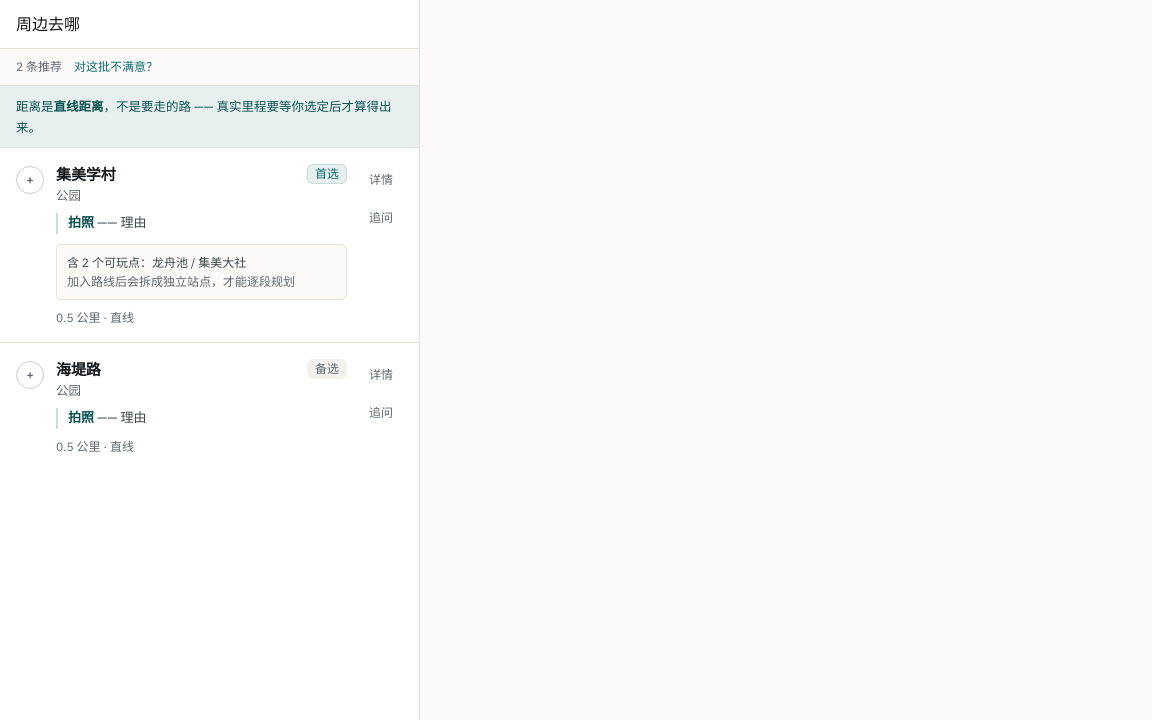
Test: 结果页 · 分享行程 › 行程托盘给「分享行程」，点开是卡面
The image size is (1152, 720).
Click the button named "选择 集美学村" at (30, 180), box [16,166,44,194]
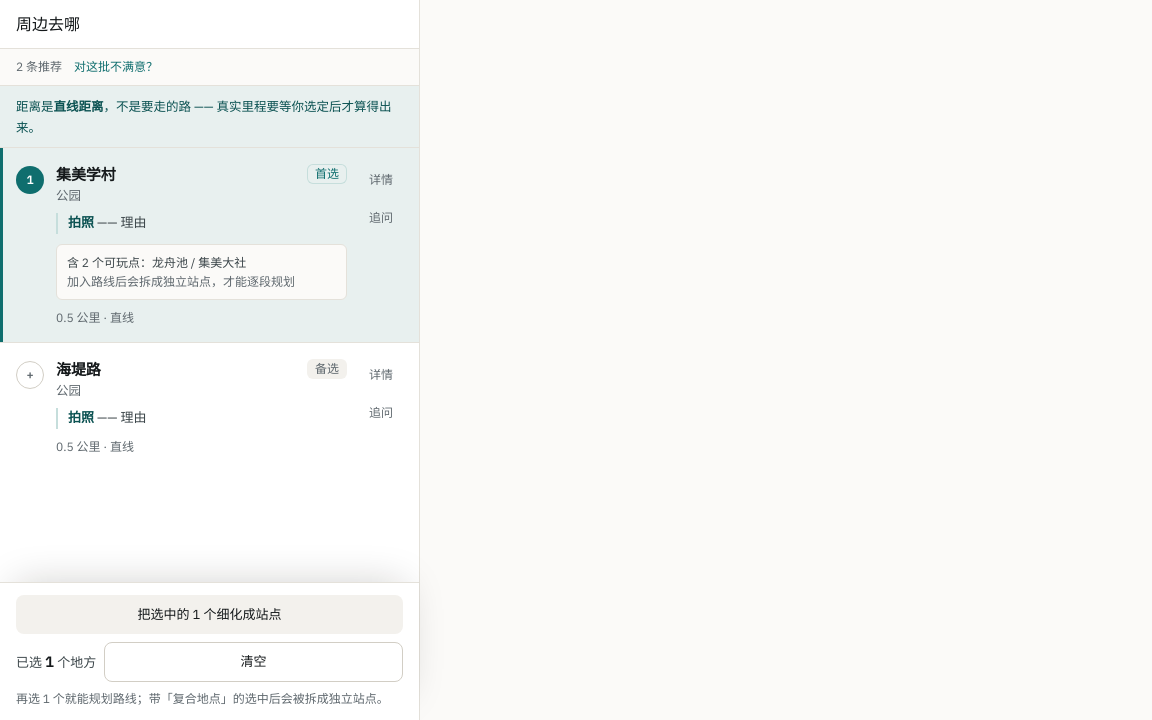
Click the button named "选择 海堤路" at (30, 375), box [16,361,44,389]
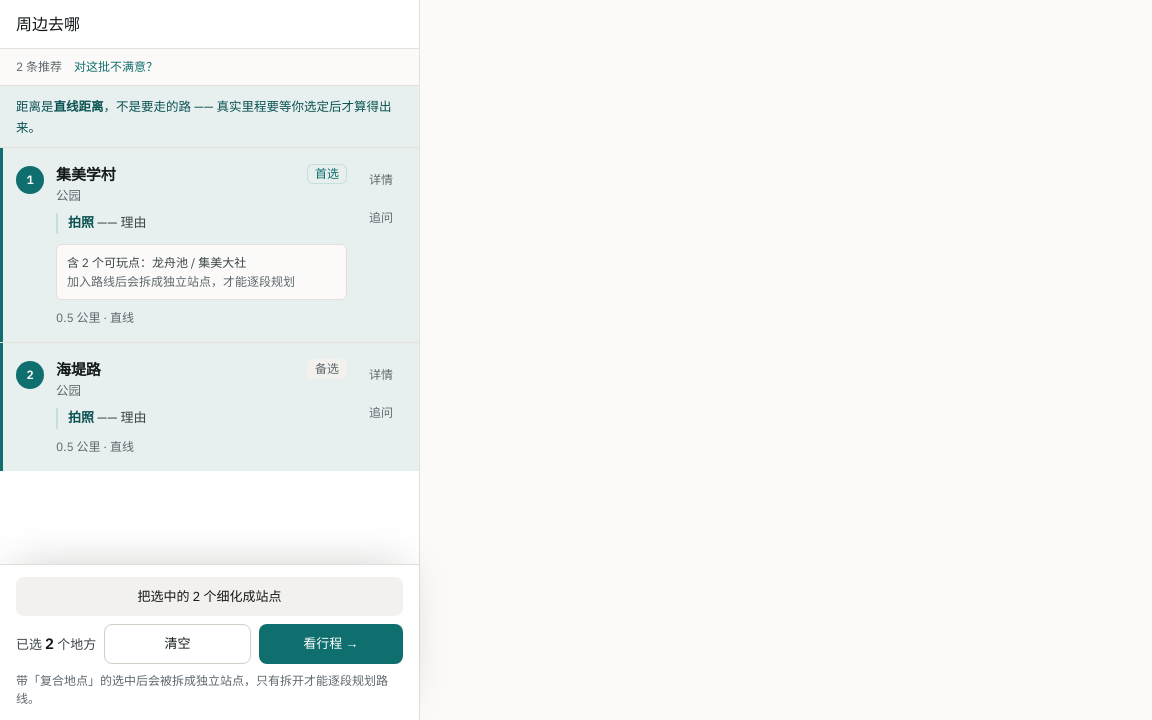
Click the button "看行程 →" at (331, 644), box [259,624,403,664]
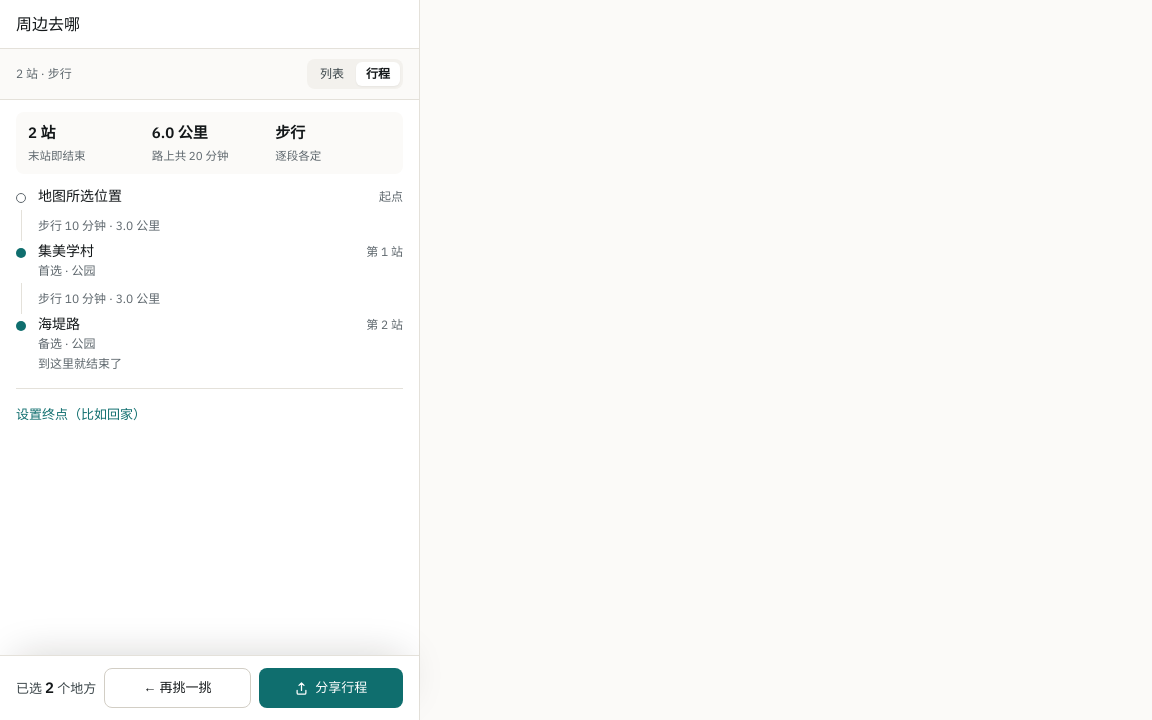
Expected: the button "分享行程" is shown
Click the button "分享行程" at (331, 688), box [259,668,403,708]
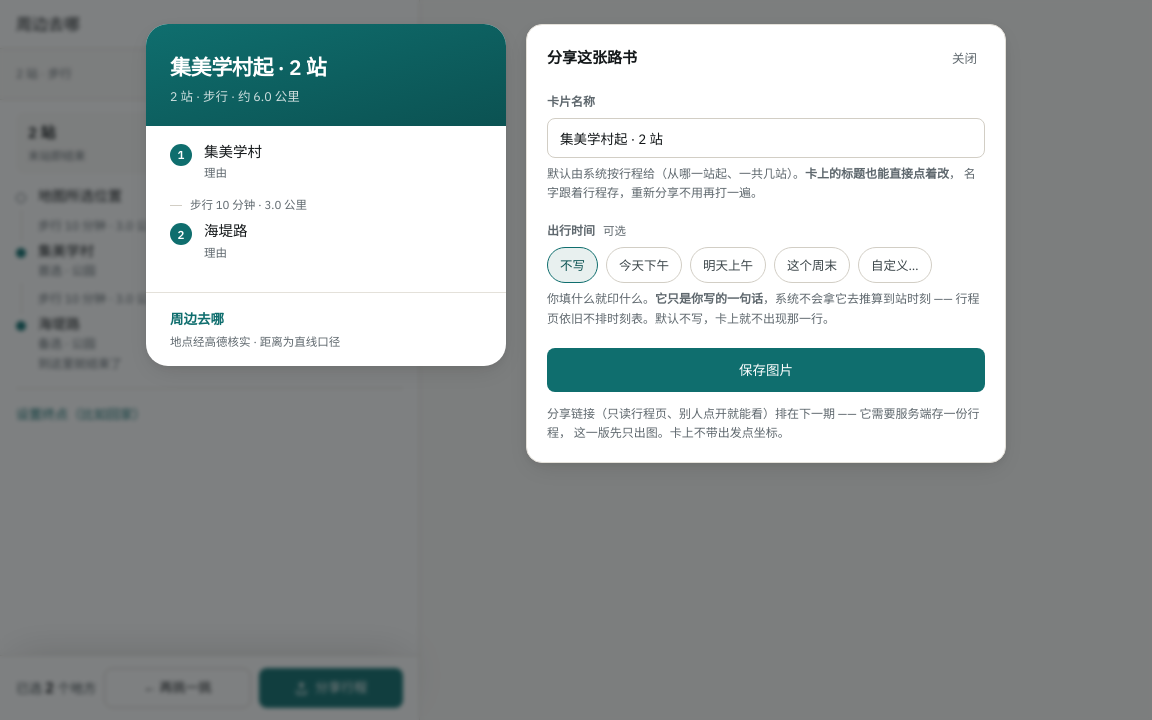
Expected: the dialog named "行程分享卡" is shown
Expected: the field labelled "卡片名称" holds "集美学村起 · 2 站", [547,118,985,158]
Expected: the text "地点经高德核实 · 距离为直线口径" is shown, [170,334,340,349]
